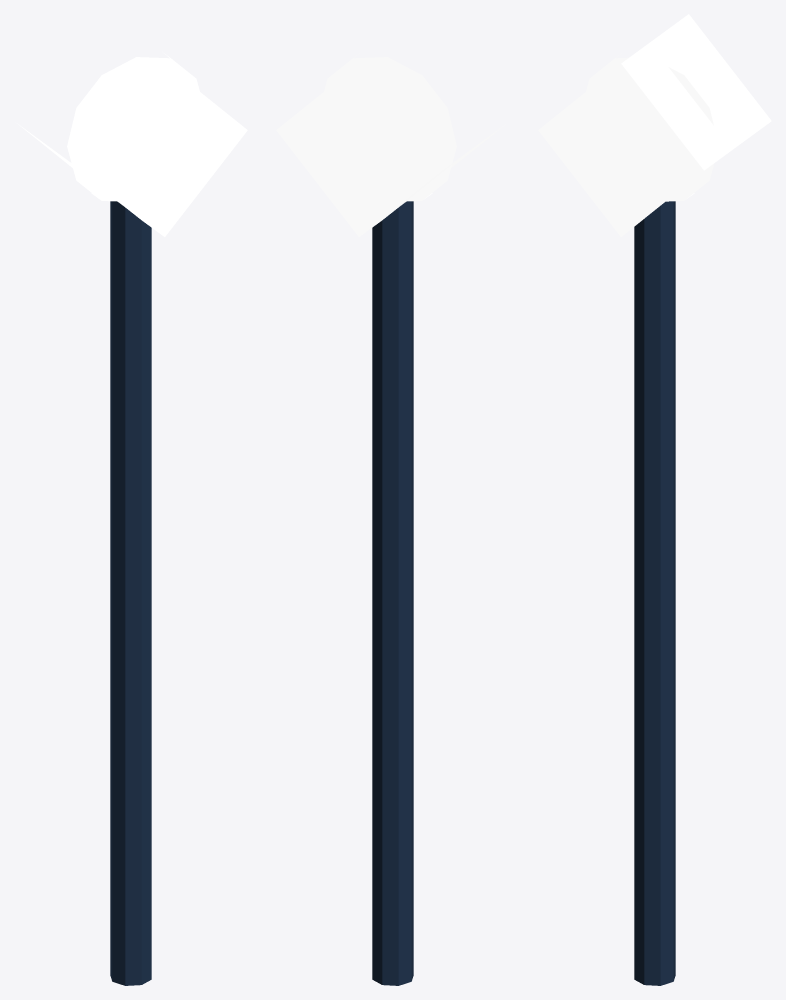
File: disruptor.glb
The picture shows the model from 3 angles, left to right: view 1: azimuth 30°, elevation 25°; view 2: azimuth 150°, elevation 25°; view 3: azimuth 330°, elevation 25°; orthographic projection.
Parts seen in each view (by area): view 1: disruptor-shaft, disruptor-head-gem, disruptor-halo; view 2: disruptor-shaft, disruptor-head-gem, disruptor-halo; view 3: disruptor-shaft, disruptor-head-gem, disruptor-halo.
Boxes of the visible parts, x1,y1,x2,y2 form: disruptor-shaft: (110,201,151,985); disruptor-head-gem: (17,64,247,236); disruptor-halo: (67,53,199,201); disruptor-shaft: (372,201,413,985); disruptor-head-gem: (276,64,506,236); disruptor-halo: (324,53,456,201); disruptor-shaft: (634,201,675,985); disruptor-head-gem: (538,14,771,236); disruptor-halo: (586,53,714,201).
Size of the model in its own units: 0.3111 by 1.68 by 0.22.
